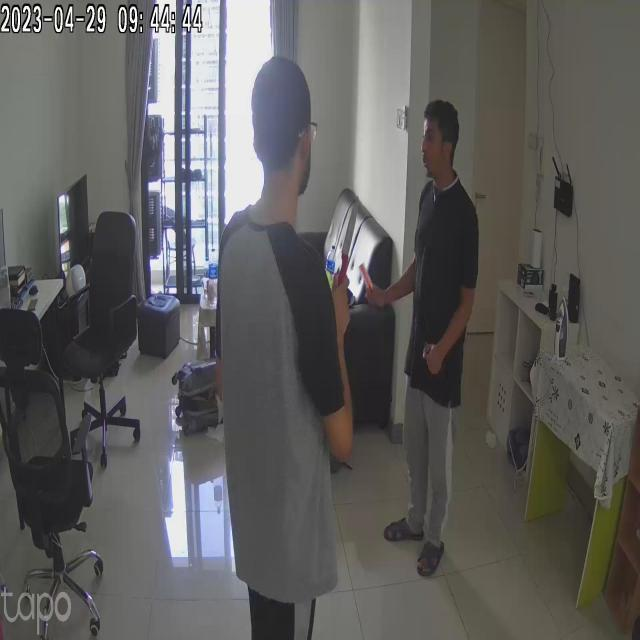Knife: (338, 182, 368, 288)
